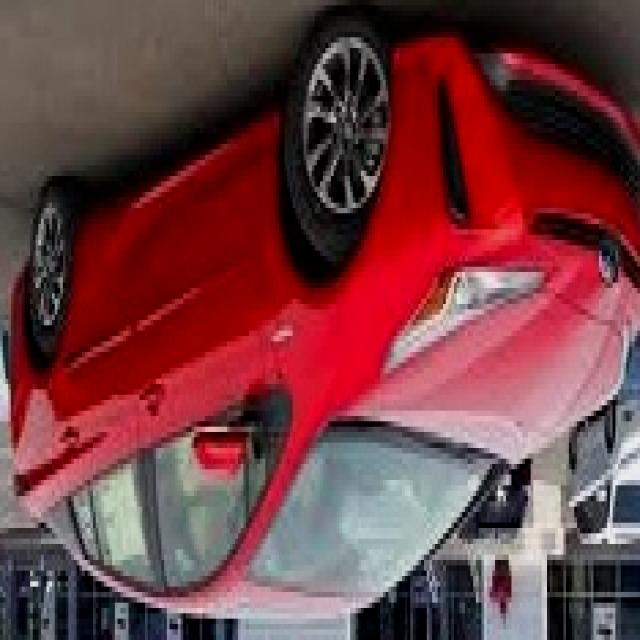red: (6, 76, 640, 614)
